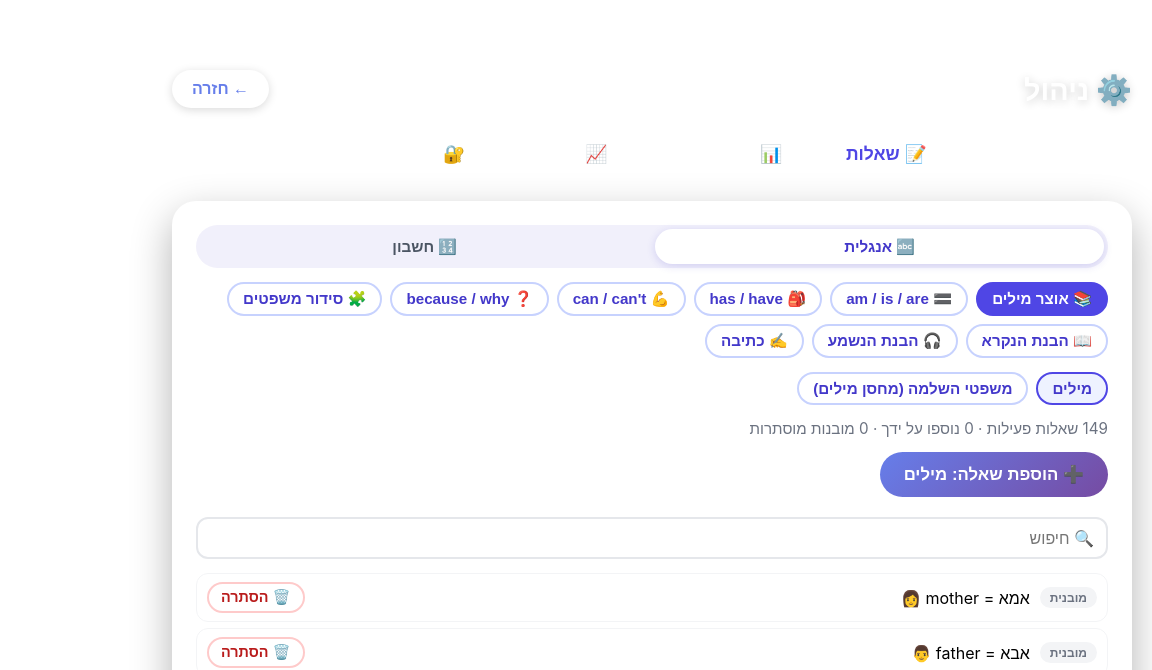
Test case: the questions tab has English and Math, and math topics get their own add-question form
The image size is (1152, 670).
Expected: the text "משמעות השבר" is not shown
Click the tab "🔢 חשבון" at (424, 246), box [200,229,649,264]
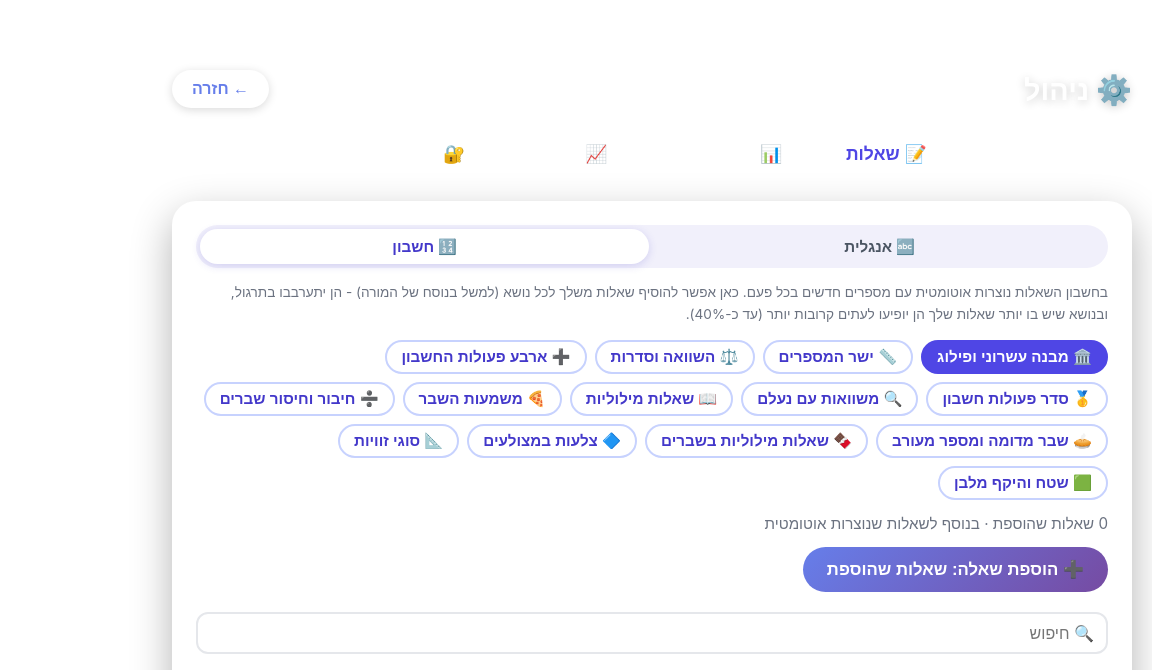
Expected: the button "🍕 משמעות השבר" is shown, [403,382,562,416]
Expected: the text "0 שאלות שהוספת · בנוסף לשאלות שנוצרות אוטומטית" is shown, [765,514,1108,532]
Click the button "➕ הוספת שאלה: שאלות שהוספת" at (955, 569), box [803,546,1108,592]
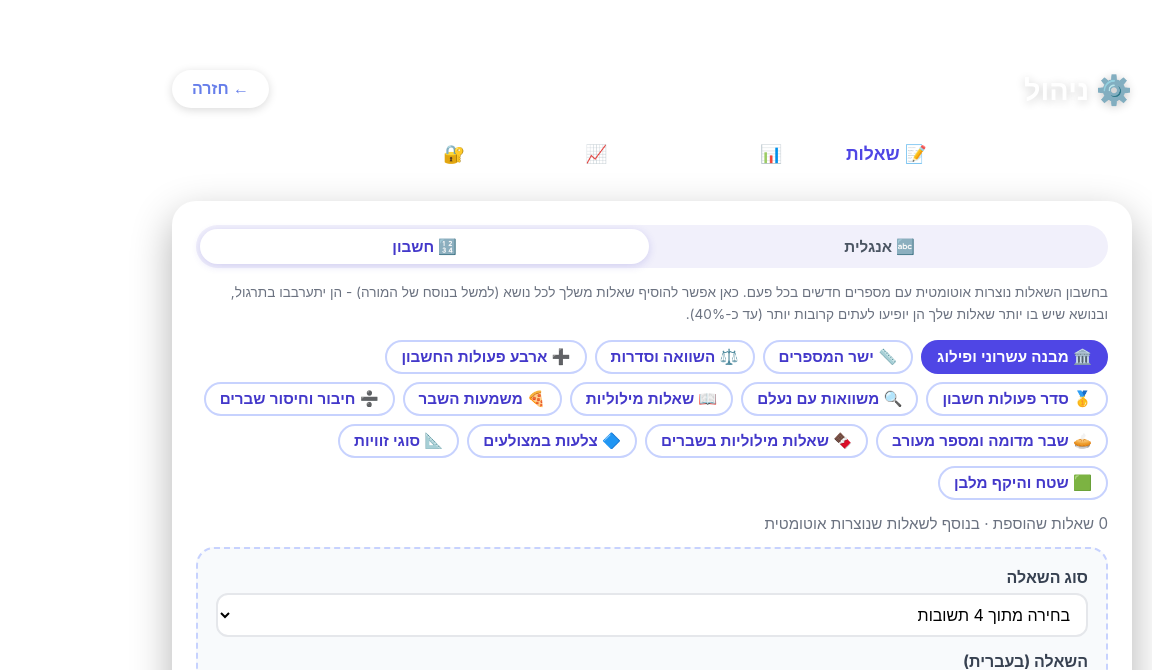
Expected: the text "יחידה ליד התשובה" is not shown
// הקלדת מספר: היחידה מופיעה, התשובות הלא נכונות נעלמות
Select "הקלדת מספר" in the dropdown showing "בחירה מתוך 4 תשובות" at (652, 614), box [216,592,1088,636]
(page scrolled)
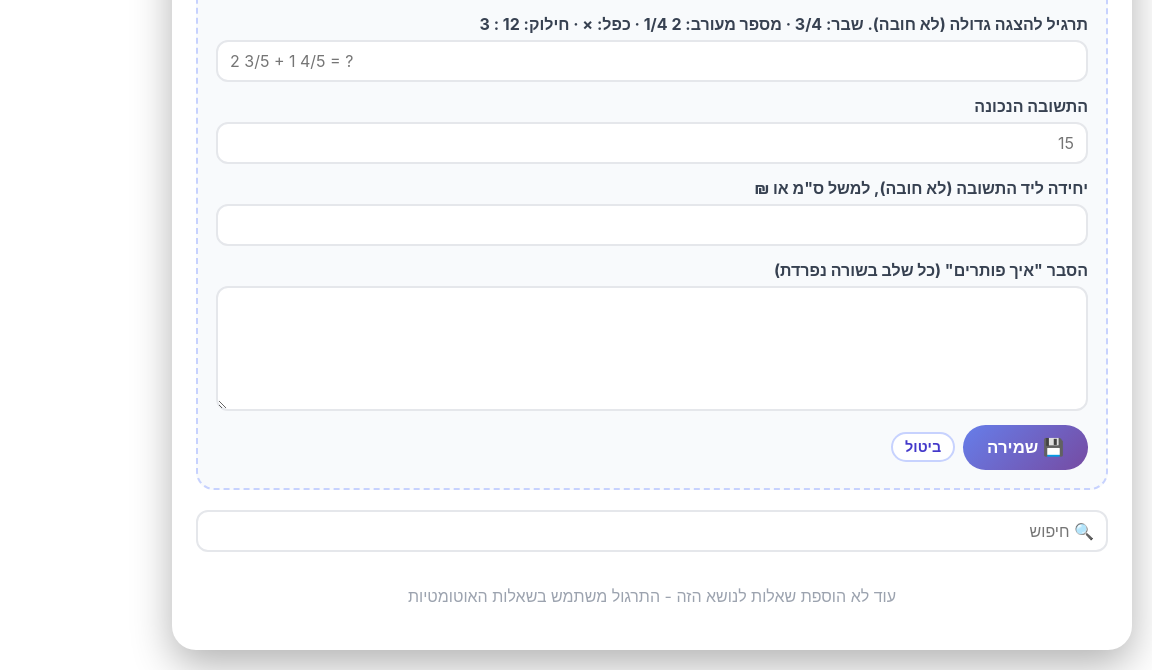
Expected: the text "יחידה ליד התשובה (לא חובה), למשל ס\"מ או ₪" is shown, [754,178,1088,198]
// שמירה בלי שאלה - הודעת שגיאה ברורה
Click the button "💾 שמירה" at (1026, 447), box [963,425,1088,470]
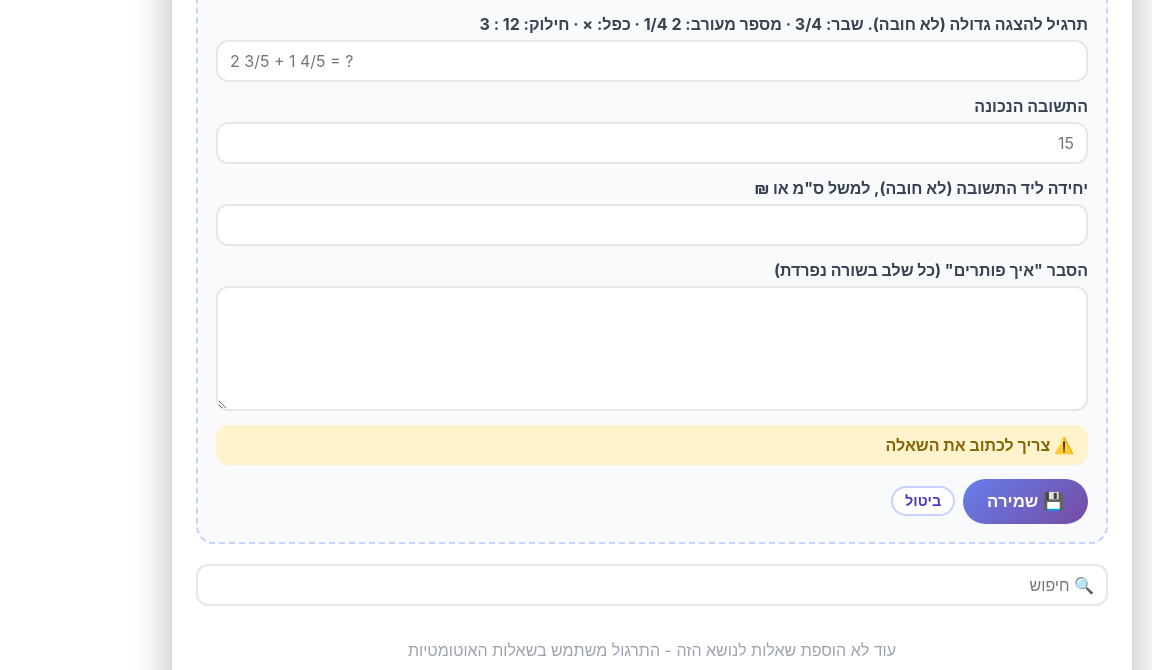
Expected: the text "⚠️ צריך לכתוב את השאלה" is shown, [216,425,1088,465]
